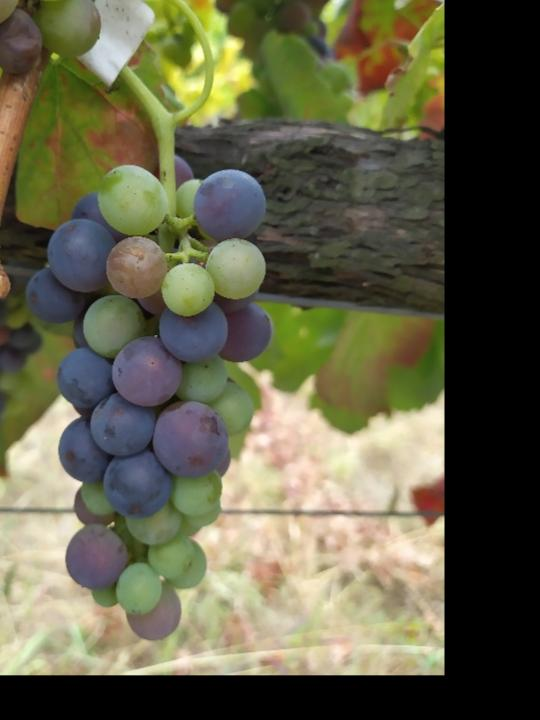grape: (22, 165, 275, 645)
